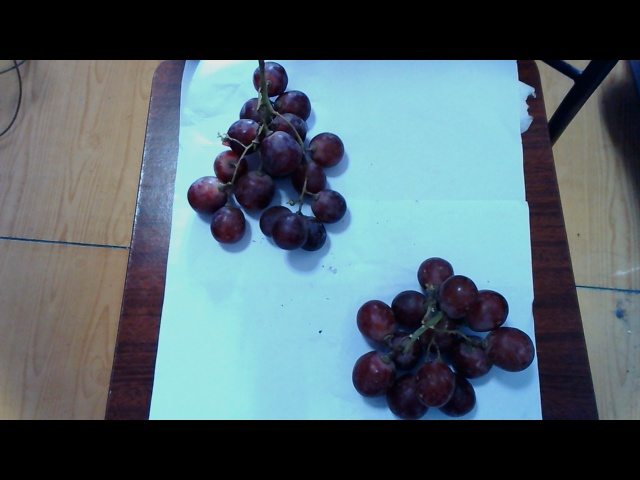grape: (185, 70, 357, 256), (337, 258, 531, 414)
